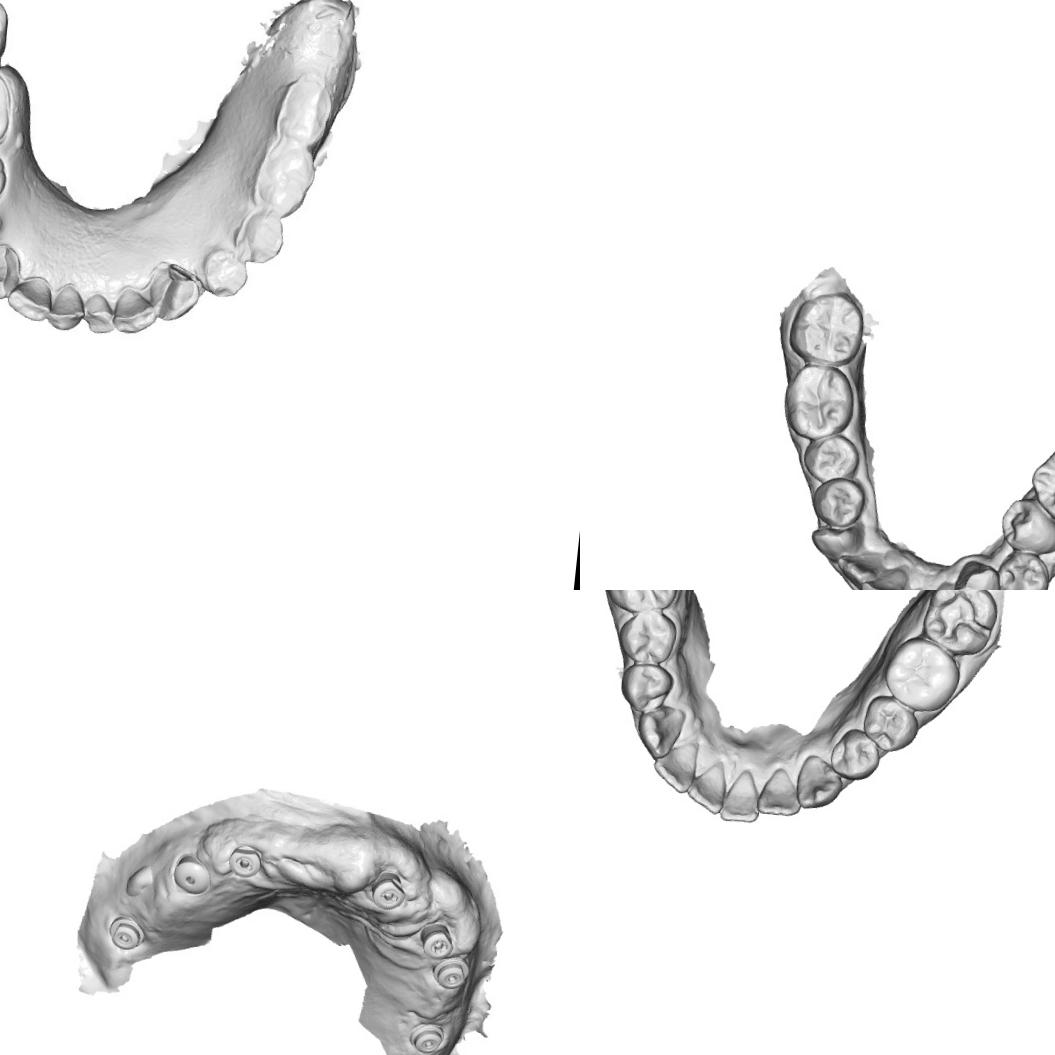canine: (148, 262, 207, 326), (633, 702, 688, 762), (792, 752, 846, 813), (808, 522, 864, 564), (950, 557, 1006, 590), (0, 237, 22, 303)
implant: (170, 852, 213, 897), (105, 914, 148, 953), (429, 953, 472, 992), (405, 1020, 452, 1055)
implant_minus: (367, 868, 408, 913), (225, 842, 265, 880)
implant_plus: (416, 921, 457, 962)
incisor: (650, 737, 700, 796), (685, 756, 732, 816), (718, 765, 764, 825), (754, 764, 804, 819), (5, 274, 52, 325), (834, 546, 887, 590), (114, 287, 158, 339), (47, 284, 85, 331), (857, 561, 910, 590), (84, 294, 115, 328), (919, 577, 971, 590)
inlay: (929, 590, 996, 648)
molar: (879, 632, 965, 718), (784, 285, 868, 370), (778, 360, 860, 444), (1025, 437, 1055, 532), (600, 590, 684, 616)
premolar: (859, 692, 923, 756), (614, 608, 680, 667), (996, 495, 1055, 558), (798, 431, 863, 486), (809, 474, 869, 532), (826, 724, 884, 784), (617, 660, 676, 716), (994, 548, 1053, 590)
